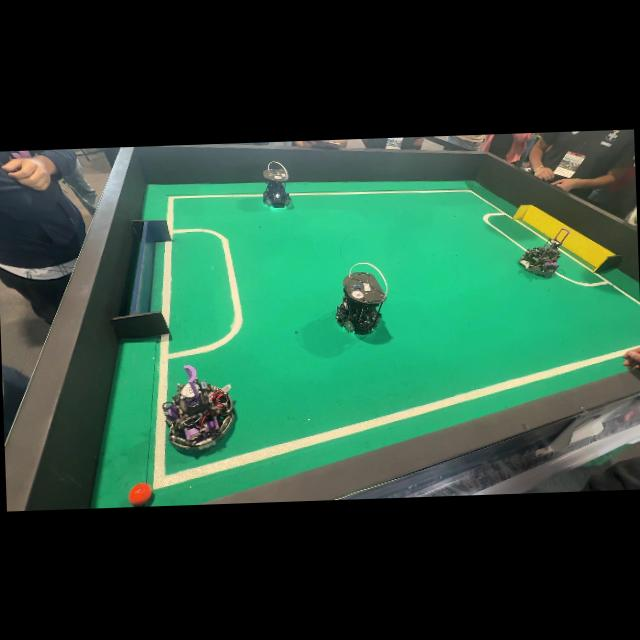ball: (128, 482, 151, 506)
goal: (111, 219, 171, 338), (513, 205, 621, 271)
robot: (162, 365, 233, 449), (335, 262, 387, 335), (519, 228, 569, 276), (263, 161, 290, 207)
